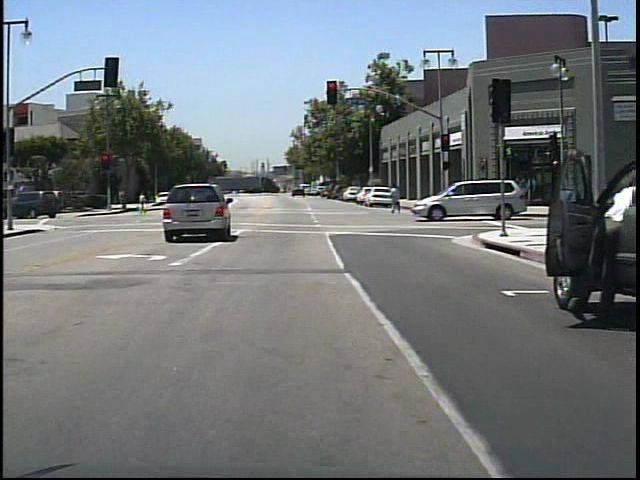person: (556, 155, 639, 330), (387, 182, 407, 217), (138, 189, 153, 217)
